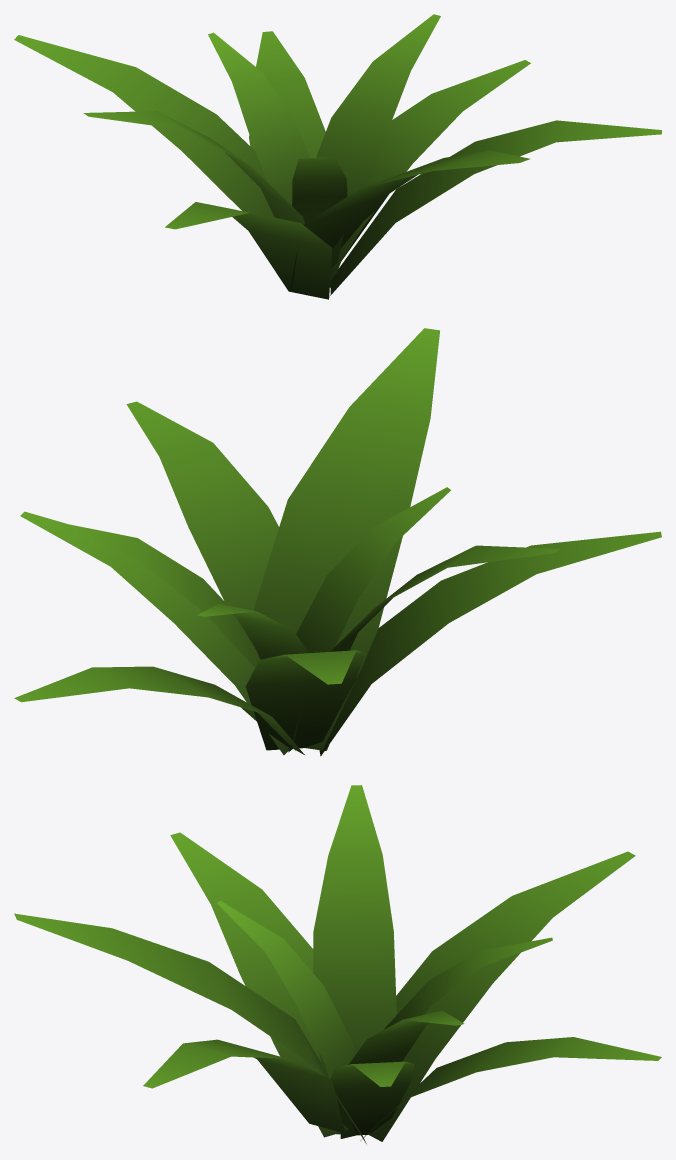
Rendered from VEG0310032.fbx.
3 renders of one model, top to bottom at view 1: azimuth 30°, elevation 25°; view 2: azimuth 150°, elevation 25°; view 3: azimuth 270°, elevation 25°, orthographic. The views are drawn at different scales.
Visible parts, largest first — view 1: smVEG0310032; view 2: smVEG0310032; view 3: smVEG0310032.
Part boxes in pixels (box(x1,y1,x2,y2)): smVEG0310032: box(14, 14, 661, 299); smVEG0310032: box(14, 328, 661, 756); smVEG0310032: box(14, 785, 661, 1144).
Bounding box in the file's own units: 94.45 × 44.05 × 106.
1 material, 1 textured.
